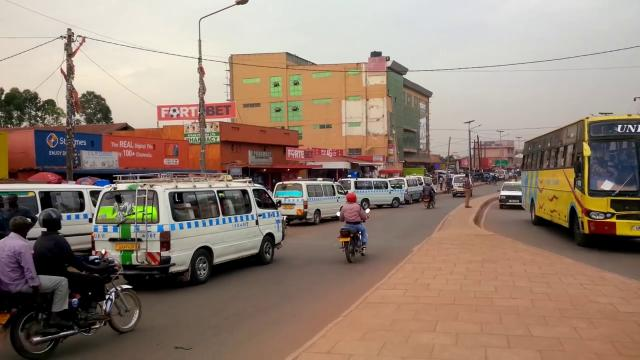bus: (519, 115, 640, 242)
car: (496, 181, 525, 208)
motorcycle: (0, 244, 146, 334), (335, 206, 372, 261), (423, 185, 436, 210)
van: (99, 170, 284, 283), (1, 179, 105, 253), (275, 178, 343, 224), (337, 177, 399, 209), (395, 175, 426, 204), (450, 174, 468, 197)
